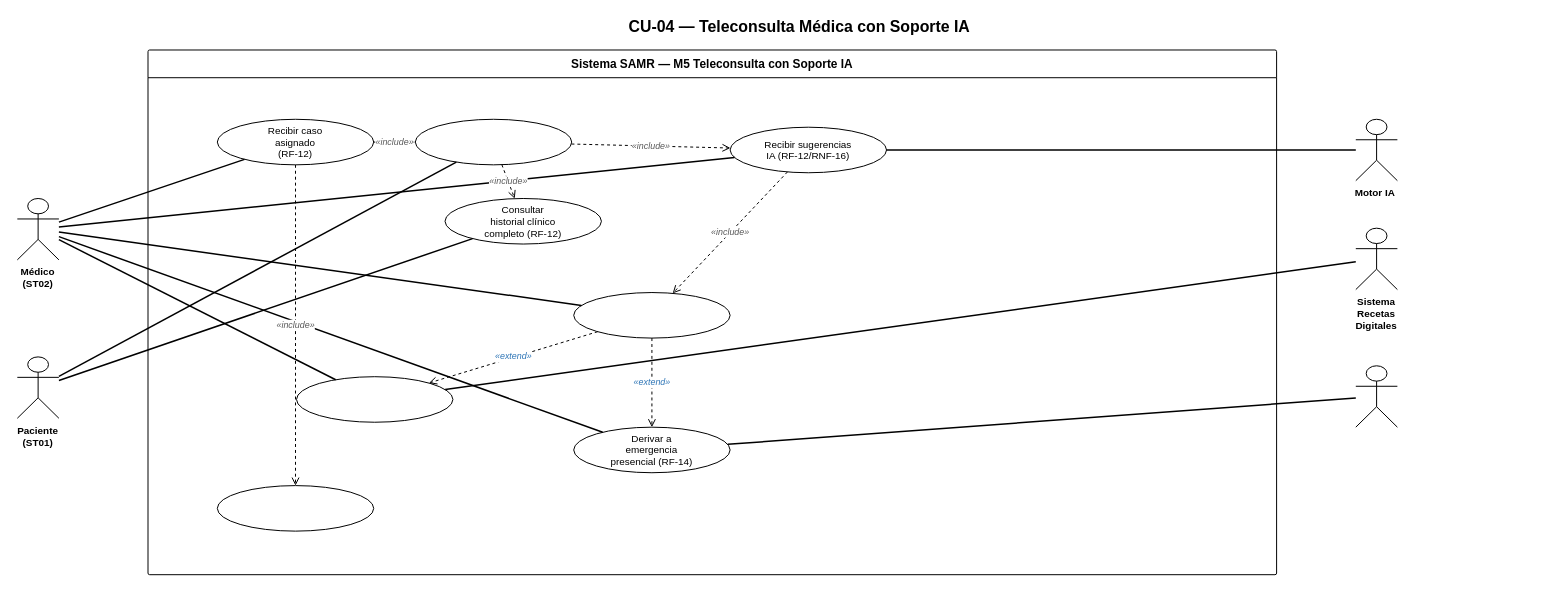
Image size: 1561x592. Some labels were removed from this diagram. Each missing label, with the box of its shape:
Emitir receta digital firmada (RF-13): (296, 376, 453, 422)
Iniciar canal de consulta(RF-12): (414, 118, 572, 165)
Registrar sesión completa en log (RF-23): (216, 485, 374, 531)
Sistema Emergencias: (1355, 365, 1397, 427)
Validar o rechazar sugerencias IA (RF-12): (573, 292, 730, 338)
